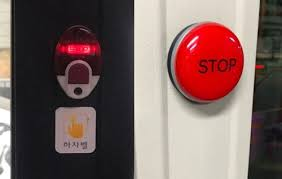bell: (55, 25, 102, 99)
